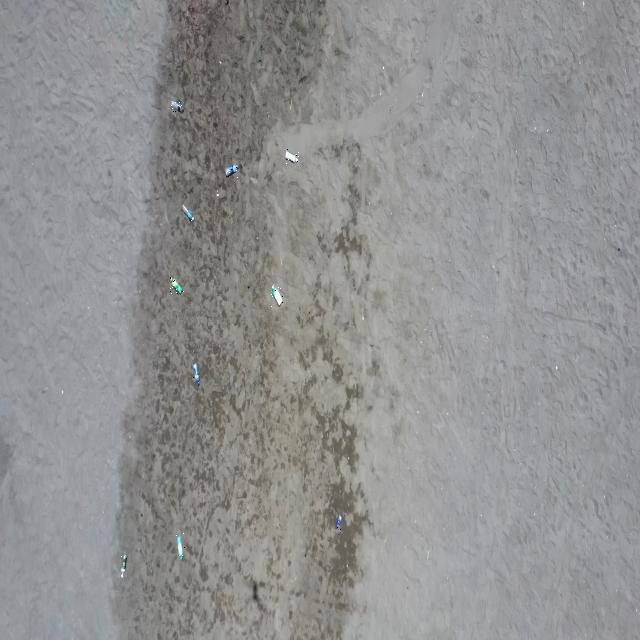Garbage: (169, 276, 183, 293), (176, 532, 183, 559), (284, 148, 298, 161), (226, 163, 240, 176), (182, 203, 192, 220), (192, 363, 200, 384), (272, 284, 280, 304), (169, 99, 183, 110), (120, 553, 125, 576), (335, 514, 342, 529)
